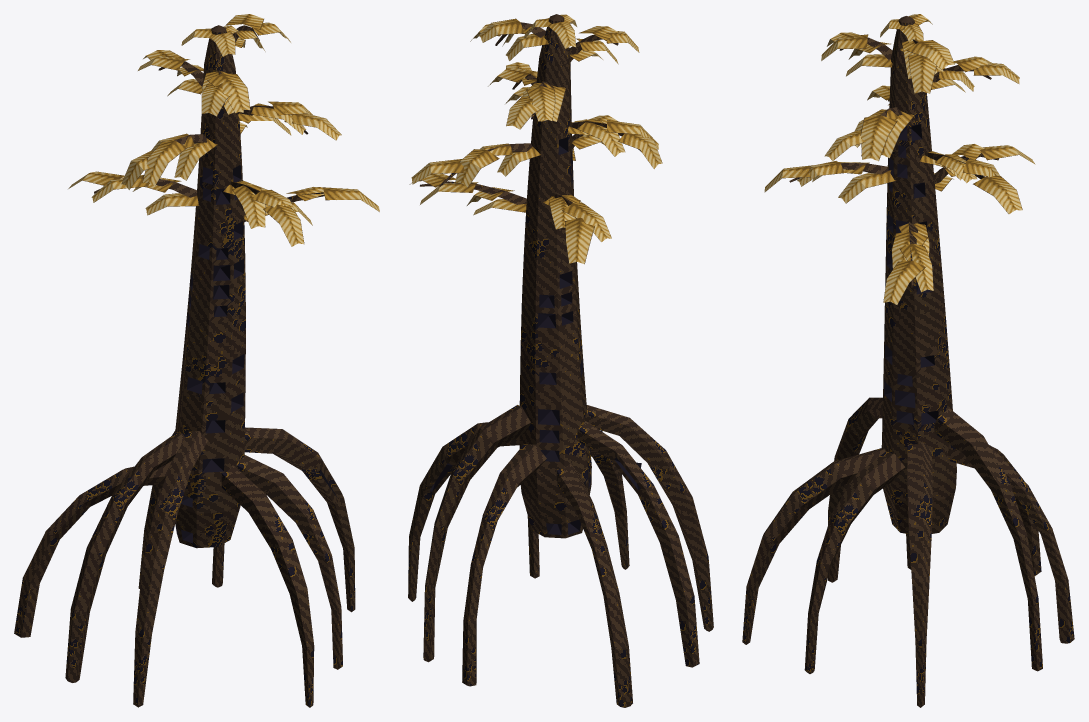
File: FLO-02_Arbol_zancudo.gltf
3 views of the same model, side by side, from view 1: azimuth 30°, elevation 25°; view 2: azimuth 150°, elevation 25°; view 3: azimuth 270°, elevation 25° (orthographic).
Parts seen in each view (by area): view 1: FLO-02_Arbol_zancudo; view 2: FLO-02_Arbol_zancudo; view 3: FLO-02_Arbol_zancudo.
Part boxes in pixels (<box>): FLO-02_Arbol_zancudo: <box>14,14,379,707</box>; FLO-02_Arbol_zancudo: <box>408,14,713,707</box>; FLO-02_Arbol_zancudo: <box>742,14,1074,707</box>.
Size of the model in its own units: 4.53 by 8.96 by 4.32.
1 material, 1 textured.
